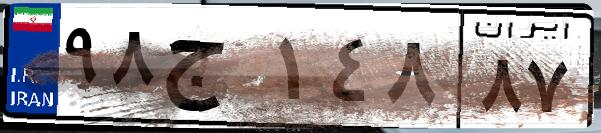1: (270, 28, 330, 110)
4: (330, 28, 385, 110)
7: (525, 38, 570, 115)
8: (385, 28, 445, 110), (475, 38, 525, 113), (110, 28, 158, 98)
9: (57, 26, 110, 100)
ج: (158, 20, 270, 120)
